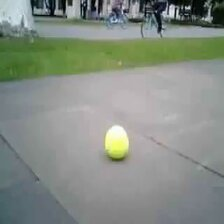tennis: (104, 125, 130, 160)
